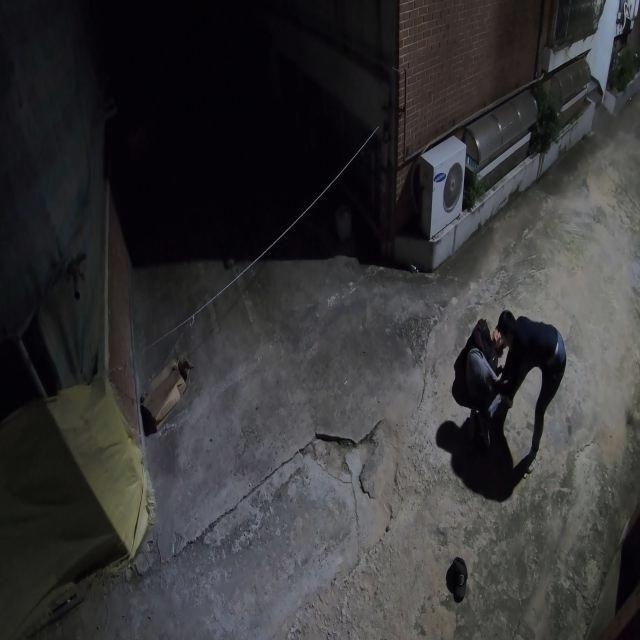fight: (446, 306, 566, 475)
